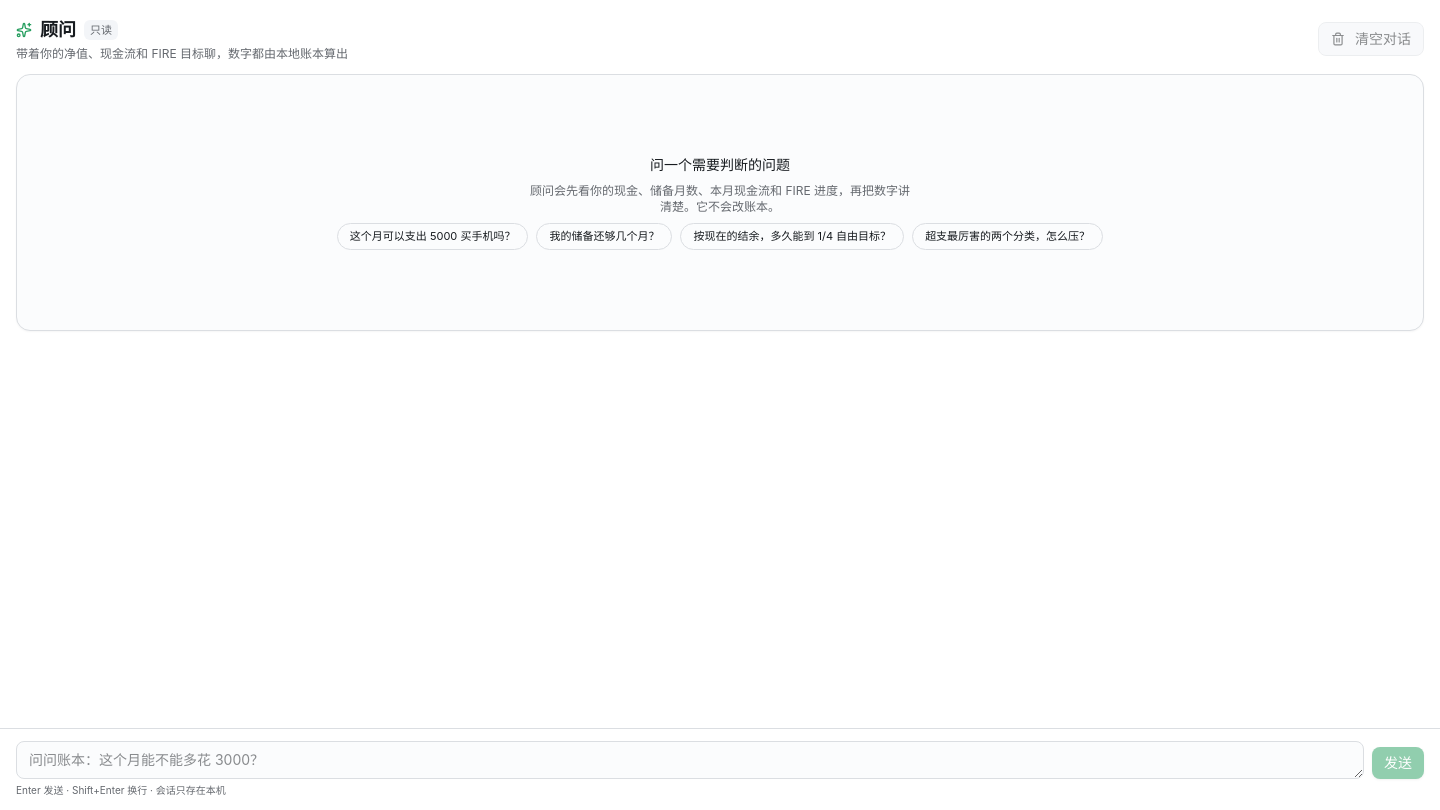
Scenario: Advisor › keeps the question visible and reports the failure when the model is not configured
The width and height of the screenshot is (1440, 810).
Type "还能花多少" into the text box with placeholder "问问账本：这个月能不能多花 3000？" at [690, 760], box x1=16 y1=741 x2=1364 y2=779
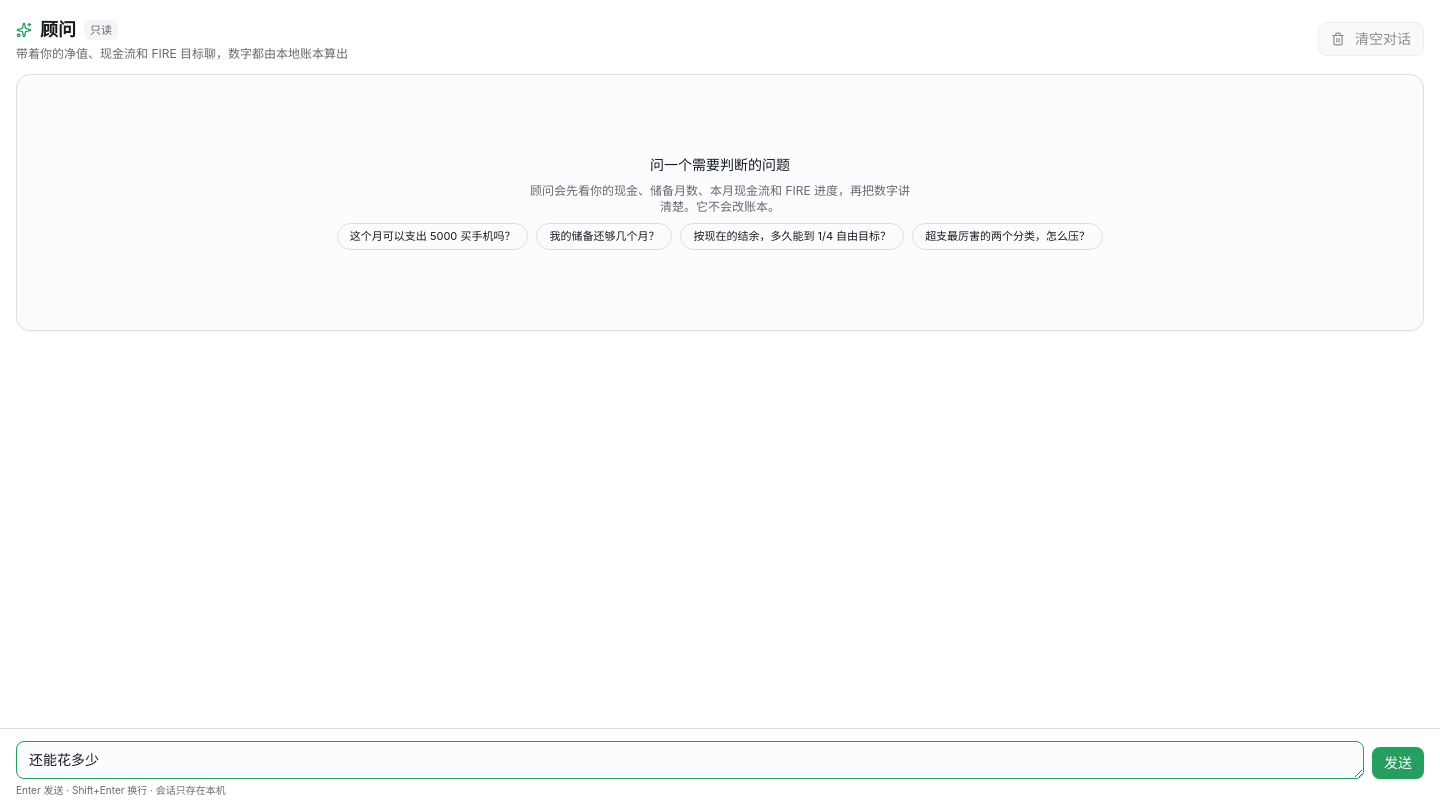
Click the button "发送" at [1398, 763], box x1=1372 y1=747 x2=1424 y2=779
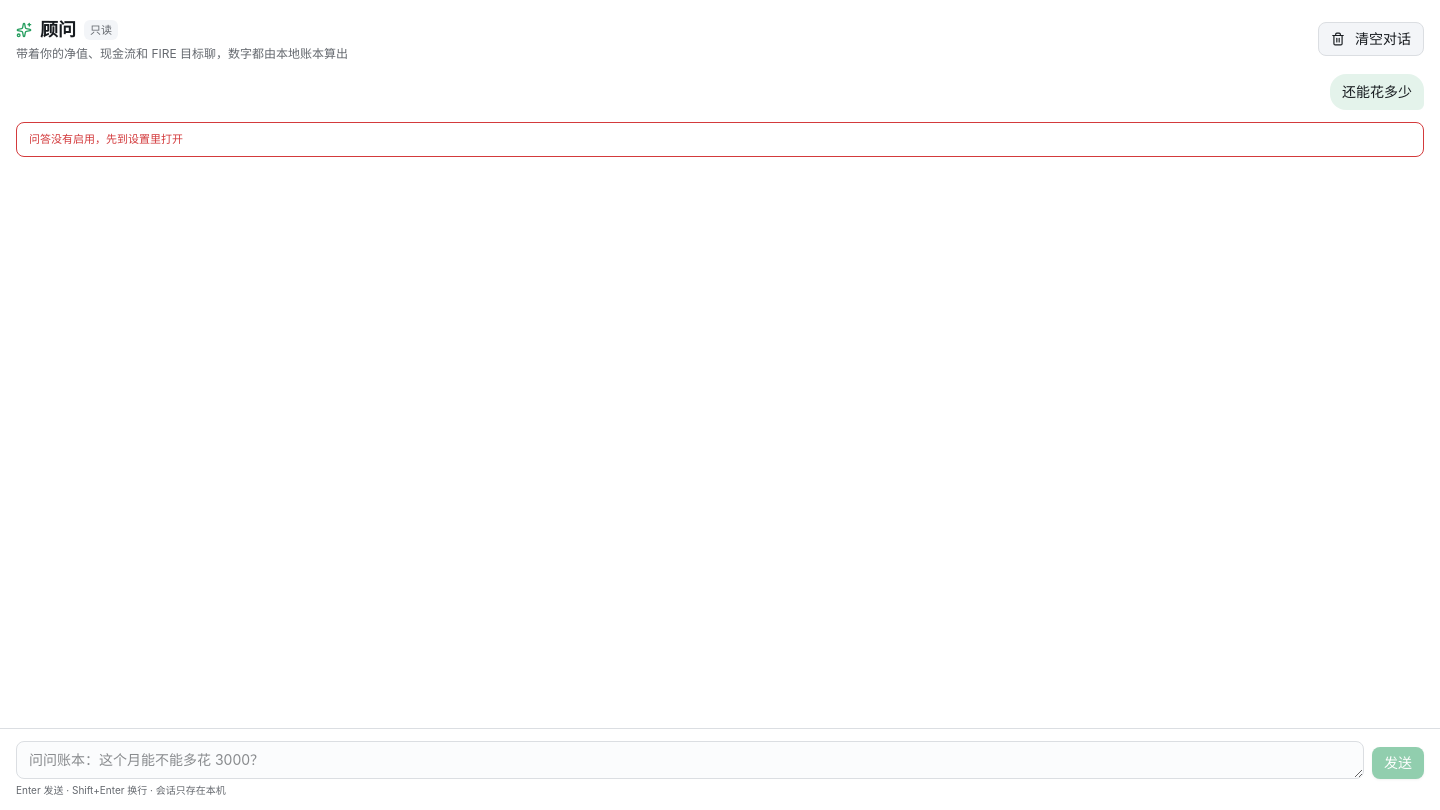
Expected: the text "问答没有启用，先到设置里打开" is shown, x1=16 y1=122 x2=1424 y2=156
Expected: the text "还能花多少" is shown, x1=1330 y1=74 x2=1424 y2=110
